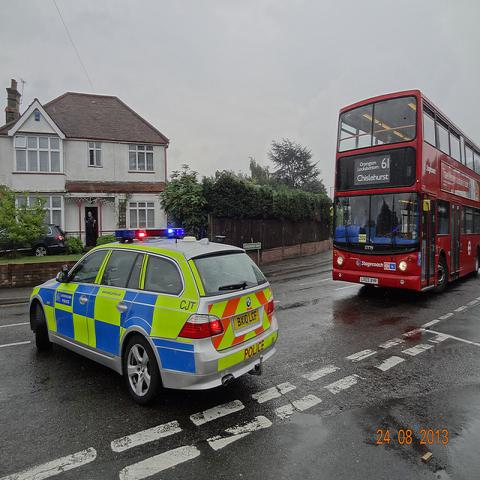bus: (332, 90, 480, 295)
car: (32, 240, 281, 411), (43, 223, 68, 246)
